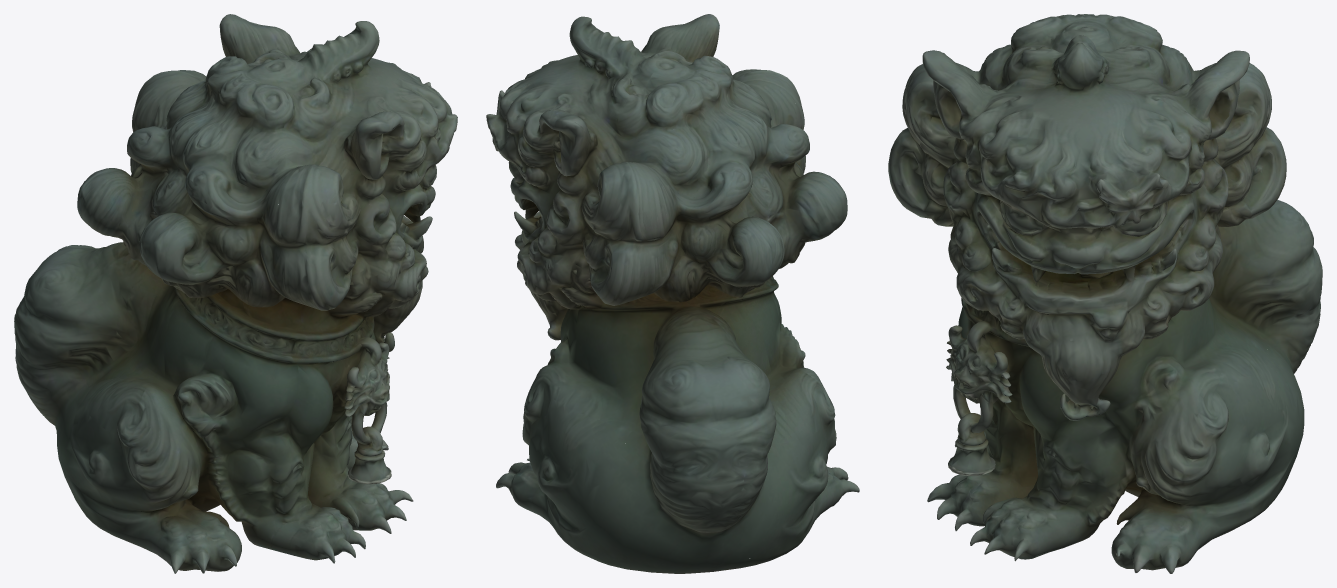
Rendered from jade-guardian-lion.glb.
3 views of the same model, side by side, from view 1: azimuth 30°, elevation 25°; view 2: azimuth 150°, elevation 25°; view 3: azimuth 270°, elevation 25° (orthographic). The views are drawn at different scales.
Parts seen in each view (by area): view 1: tripo_node_e2991761-ccf4-4d10-850e-56e3f3fa020f; view 2: tripo_node_e2991761-ccf4-4d10-850e-56e3f3fa020f; view 3: tripo_node_e2991761-ccf4-4d10-850e-56e3f3fa020f.
Part boxes in pixels (box(x1,y1,x2,y2)): tripo_node_e2991761-ccf4-4d10-850e-56e3f3fa020f: box(14, 14, 457, 573); tripo_node_e2991761-ccf4-4d10-850e-56e3f3fa020f: box(486, 14, 859, 573); tripo_node_e2991761-ccf4-4d10-850e-56e3f3fa020f: box(888, 14, 1322, 573).
Size of the model in its own units: 0.7493 by 0.9998 by 0.7611.
1 material, 1 textured.
